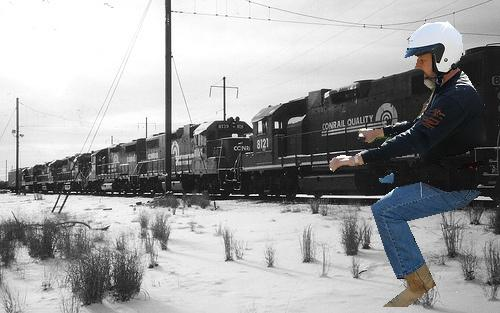tampered: (330, 22, 489, 307)
